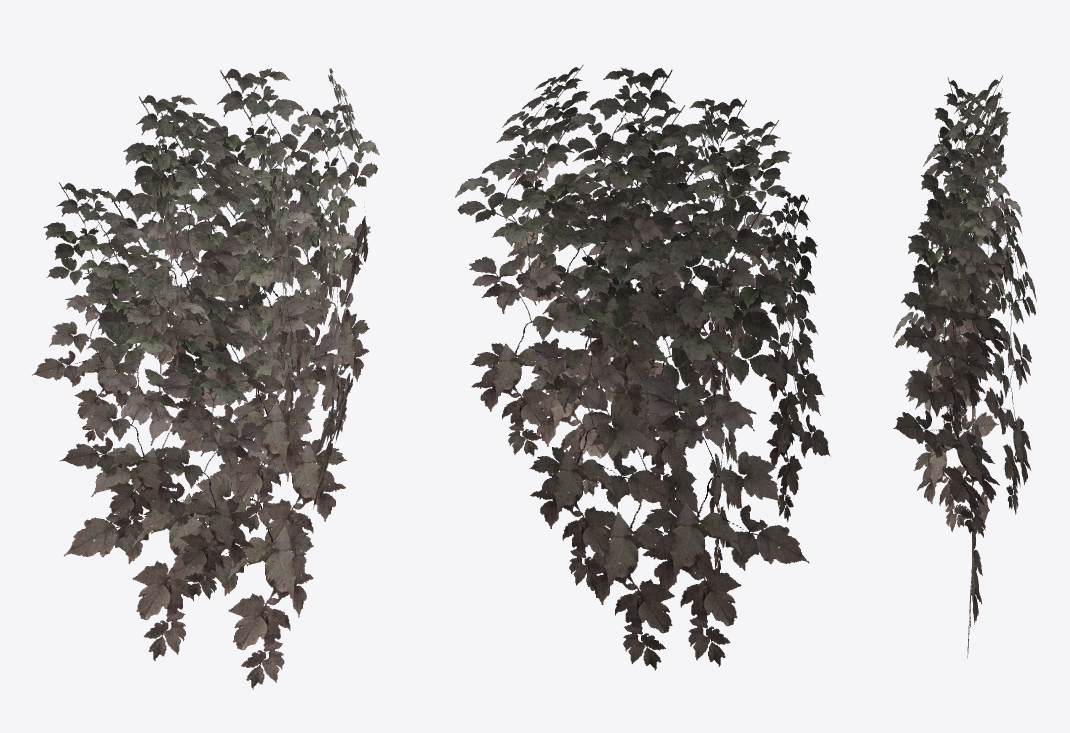
File: Model_HangingPlant_05.fbx
3 views of the same model, side by side, from view 1: azimuth 30°, elevation 25°; view 2: azimuth 150°, elevation 25°; view 3: azimuth 270°, elevation 25° (orthographic). The views are drawn at different scales.
Visible parts, largest first — view 1: Ivy; view 2: Ivy; view 3: Ivy.
Part boxes in pixels (bbox=[...]): Ivy: bbox=[32, 68, 379, 689]; Ivy: bbox=[455, 64, 830, 670]; Ivy: bbox=[893, 75, 1036, 657].
Size of the model in its own units: 157 by 249 by 69.68.
